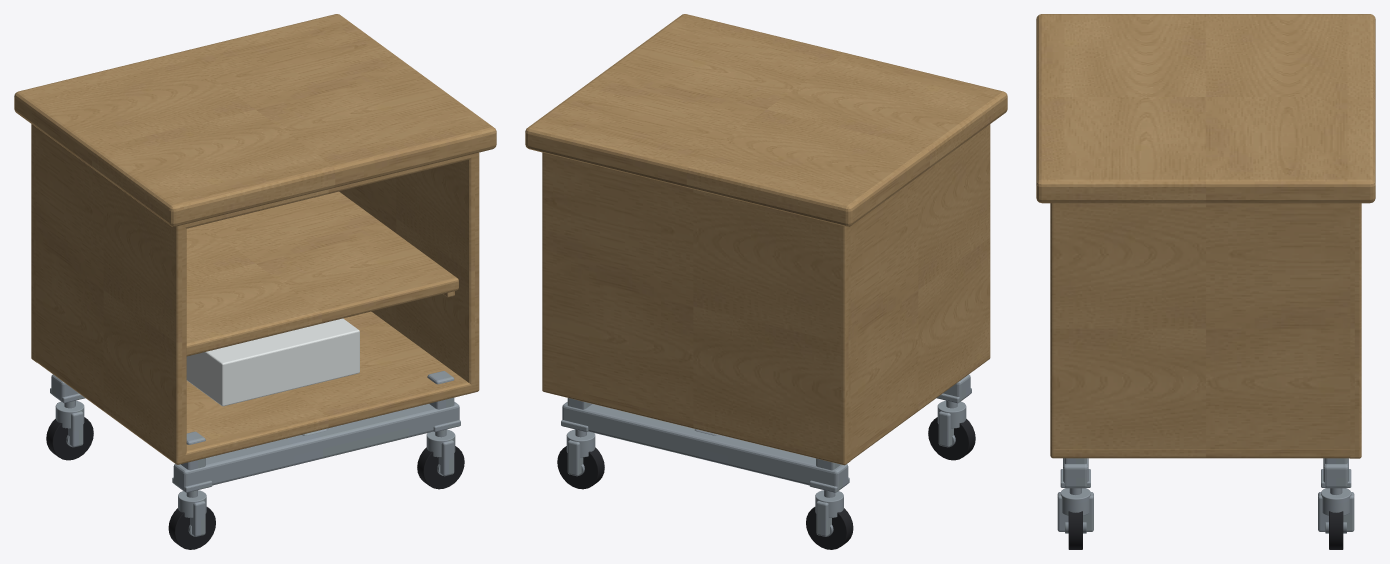
The model's file is crime-office-printer-stand.glb.
The picture shows the model from 3 angles, left to right: view 1: azimuth 30°, elevation 25°; view 2: azimuth 150°, elevation 25°; view 3: azimuth 270°, elevation 25°; orthographic projection. The views are drawn at different scales.
Parts seen in each view (by area): view 1: Printer stand reinforced top, Cabinet side, Printer stand shelf, Cabinet horizontal, Cabinet side.001, Paper stack, Caster base crossbar, Cabinet horizontal.001, Cabinet back, Cast polyurethane wheel.001, Cast polyurethane wheel, Cast polyurethane wheel.002; view 2: Cabinet back, Printer stand reinforced top, Cabinet side, Caster base crossbar.001, Cabinet horizontal, Cabinet horizontal.001, Cast polyurethane wheel, Cast polyurethane wheel.001, Cast polyurethane wheel.003; view 3: Cabinet side.001, Printer stand reinforced top, Cabinet back, Cabinet horizontal, Cabinet horizontal.001, Caster swivel.002, Caster swivel.003, Caster base crossbar, Caster base crossbar.001, Cast polyurethane wheel.002, Cast polyurethane wheel.003, Caster fork.002 (+1 smaller).
Part boxes in pixels (box(x1,y1,x2,y2)): Printer stand reinforced top: box(14, 14, 496, 226); Cabinet side: box(35, 127, 186, 464); Printer stand shelf: box(186, 191, 458, 356); Cabinet horizontal: box(35, 311, 478, 463); Cabinet side.001: box(339, 153, 479, 393); Paper stack: box(186, 318, 359, 406); Caster base crossbar: box(173, 402, 459, 490); Cabinet horizontal.001: box(173, 152, 478, 228); Cabinet back: box(31, 124, 36, 362); Cast polyurethane wheel.001: box(46, 417, 93, 460); Cast polyurethane wheel: box(168, 507, 215, 549); Cast polyurethane wheel.002: box(417, 446, 464, 489); Cabinet back: box(542, 152, 850, 465); Printer stand reinforced top: box(525, 14, 1007, 226); Cabinet side: box(850, 124, 990, 460); Caster base crossbar.001: box(562, 402, 848, 490); Cabinet horizontal: box(544, 351, 990, 462); Cabinet horizontal.001: box(544, 153, 848, 228); Cast polyurethane wheel: box(928, 417, 975, 460); Cast polyurethane wheel.001: box(806, 507, 853, 549); Cast polyurethane wheel.003: box(557, 446, 604, 489); Cabinet side.001: box(1050, 203, 1350, 458); Printer stand reinforced top: box(1036, 14, 1375, 203); Cabinet back: box(1349, 203, 1361, 458); Cabinet horizontal: box(1050, 449, 1358, 457); Cabinet horizontal.001: box(1050, 203, 1358, 207); Caster swivel.002: box(1060, 488, 1090, 515); Caster swivel.003: box(1321, 488, 1351, 515); Caster base crossbar: box(1063, 458, 1088, 488); Caster base crossbar.001: box(1323, 458, 1348, 488); Cast polyurethane wheel.002: box(1068, 511, 1082, 549); Cast polyurethane wheel.003: box(1329, 511, 1343, 549); Caster fork.002: box(1057, 492, 1093, 531).
Size of the model in its own units: 0.71 by 0.7525 by 0.6.
Materials: 4 (4 with a texture image).
